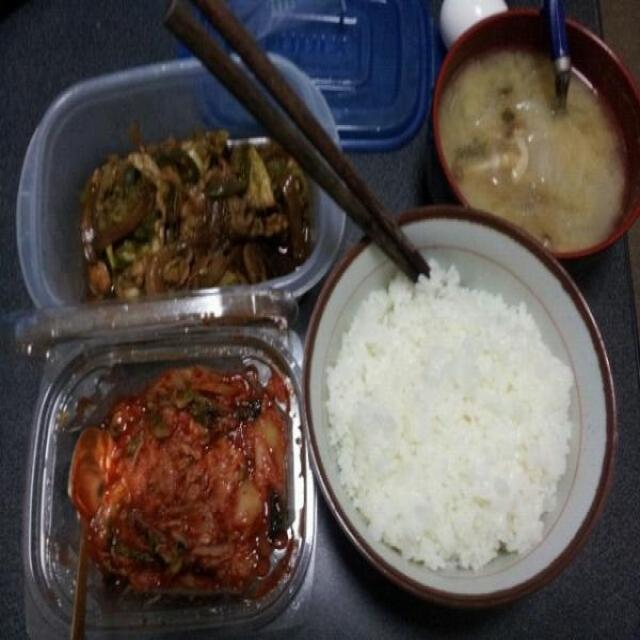Rice: (339, 264, 568, 559)
